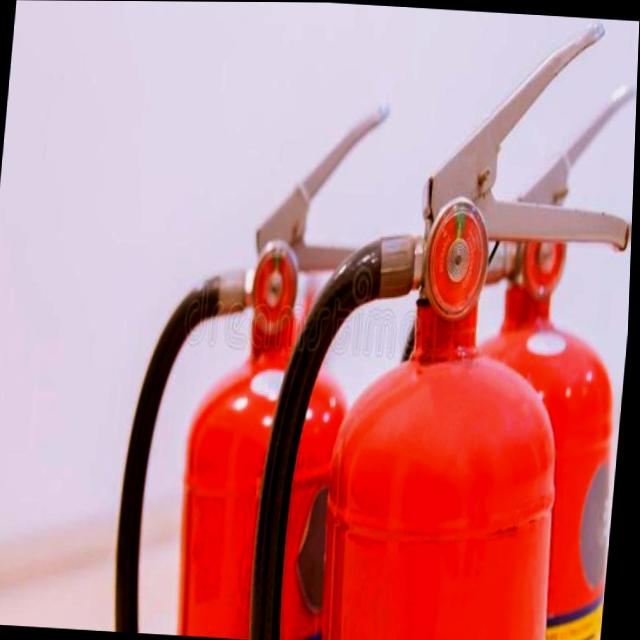FireExtinguisher: (243, 2, 640, 640), (107, 81, 422, 640)
